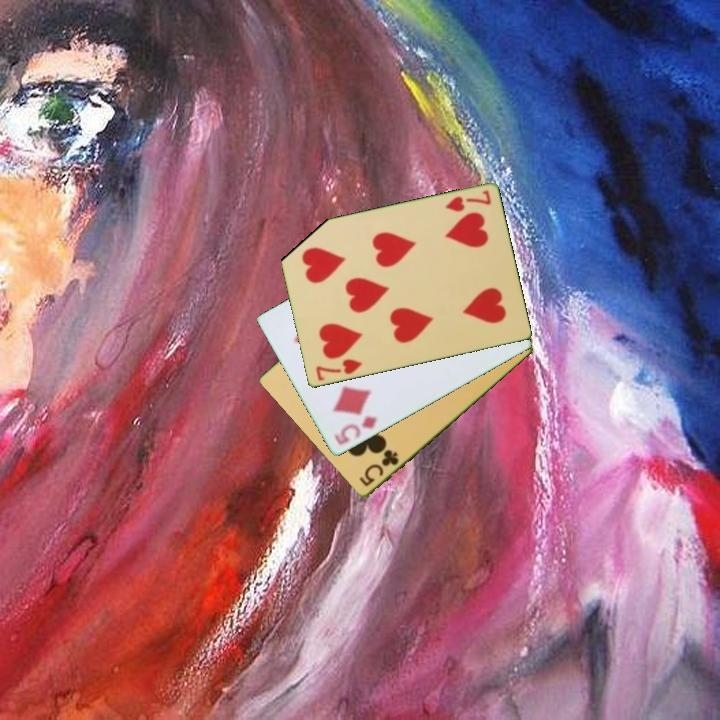5c: (355, 446, 402, 490)
5d: (330, 412, 380, 448)
7h: (312, 356, 365, 384), (441, 187, 494, 215)
